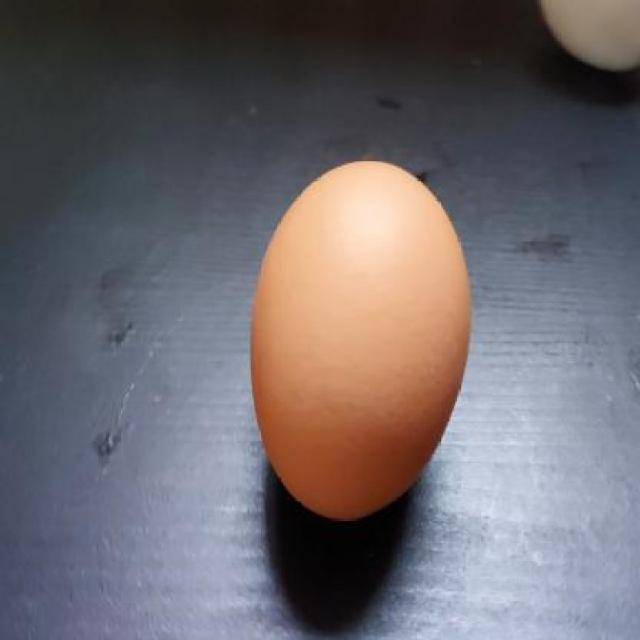biodegradable: (245, 158, 473, 520)
